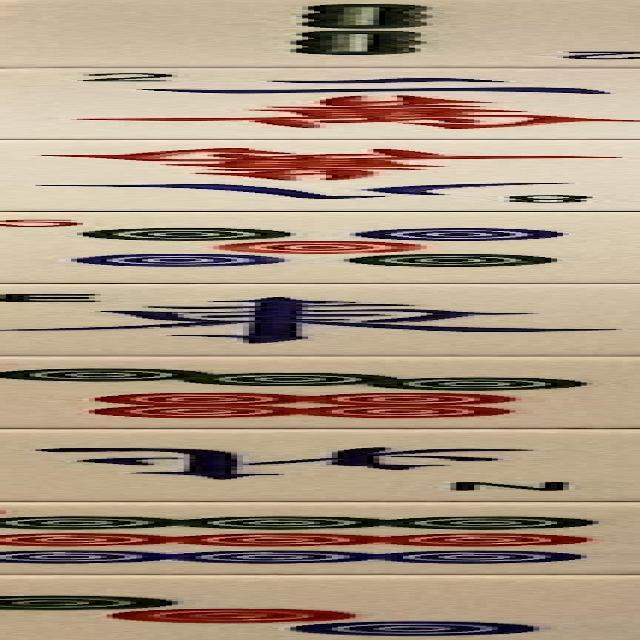hwe: (0, 284, 640, 354)
hwn: (0, 429, 640, 502)
sb2: (0, 0, 640, 65)
sc2: (0, 68, 640, 136)
sc8: (0, 140, 640, 208)
sd3: (0, 577, 640, 640)
sd5: (0, 212, 640, 280)
sd7: (0, 358, 640, 426)
sd9: (0, 503, 640, 574)
